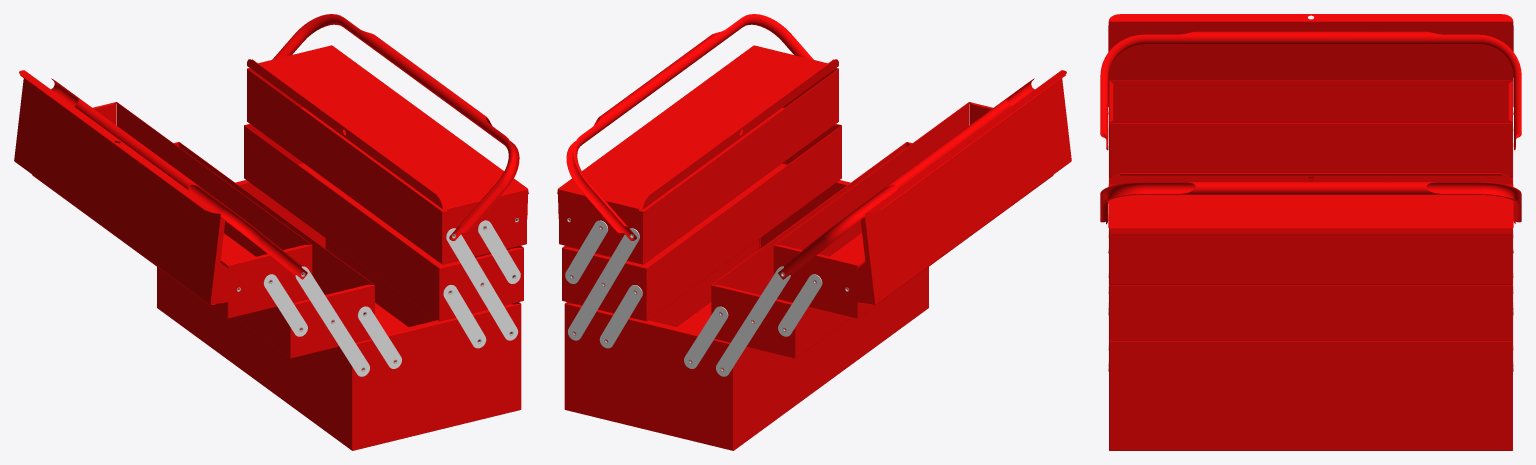
The model's file is Tool Box Assembly.fbx.
The picture shows the model from 3 angles, left to right: view 1: azimuth 30°, elevation 25°; view 2: azimuth 150°, elevation 25°; view 3: azimuth 270°, elevation 25°; orthographic projection. The views are drawn at different scales.
Parts seen in each view (by area): view 1: Tool Box Part 1 (×4), Tool Box Part 5 (×2), Tool Box Part 2, Tool Box Part 6 (×2), Tool Box Part 3 (×4), Tool Box Part 4 (×2); view 2: Tool Box Part 1 (×4), Tool Box Part 5 (×2), Tool Box Part 2, Tool Box Part 6 (×2), Tool Box Part 3 (×4), Tool Box Part 4 (×2); view 3: Tool Box Part 1 (×3), Tool Box Part 2, Tool Box Part 5 (×2), Tool Box Part 6 (×2).
Part boxes in pixels (left/top/right/bottom): Tool Box Part 1 (×4): left=32, top=68, right=526, bottom=358; Tool Box Part 5 (×2): left=14, top=45, right=528, bottom=304; Tool Box Part 2: left=157, top=180, right=521, bottom=450; Tool Box Part 6 (×2): left=51, top=14, right=519, bottom=279; Tool Box Part 3 (×4): left=263, top=220, right=520, bottom=368; Tool Box Part 4 (×2): left=295, top=228, right=518, bottom=376; Tool Box Part 1 (×4): left=559, top=68, right=1053, bottom=358; Tool Box Part 5 (×2): left=557, top=45, right=1071, bottom=304; Tool Box Part 2: left=564, top=180, right=928, bottom=450; Tool Box Part 6 (×2): left=566, top=14, right=1034, bottom=279; Tool Box Part 3 (×4): left=565, top=220, right=822, bottom=368; Tool Box Part 4 (×2): left=568, top=228, right=790, bottom=376; Tool Box Part 1 (×3): left=1109, top=80, right=1512, bottom=340; Tool Box Part 2: left=1109, top=340, right=1512, bottom=450; Tool Box Part 5 (×2): left=1108, top=14, right=1513, bottom=234; Tool Box Part 6 (×2): left=1100, top=31, right=1521, bottom=224.
Bounding box in the file's own units: 47.39 × 38.43 × 52.34.
